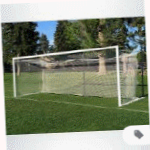goals: (10, 43, 142, 108)
